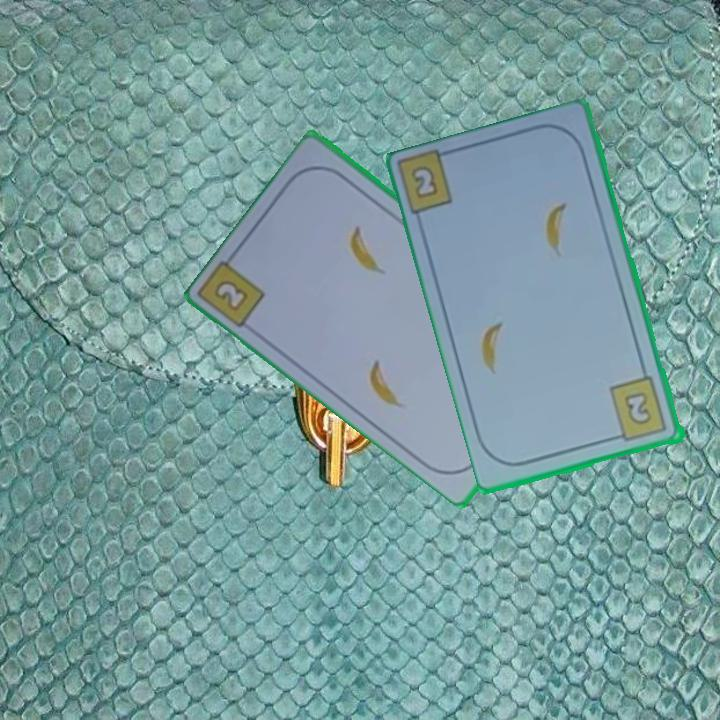2b: (606, 374, 671, 445), (407, 162, 442, 202), (214, 279, 248, 311)
